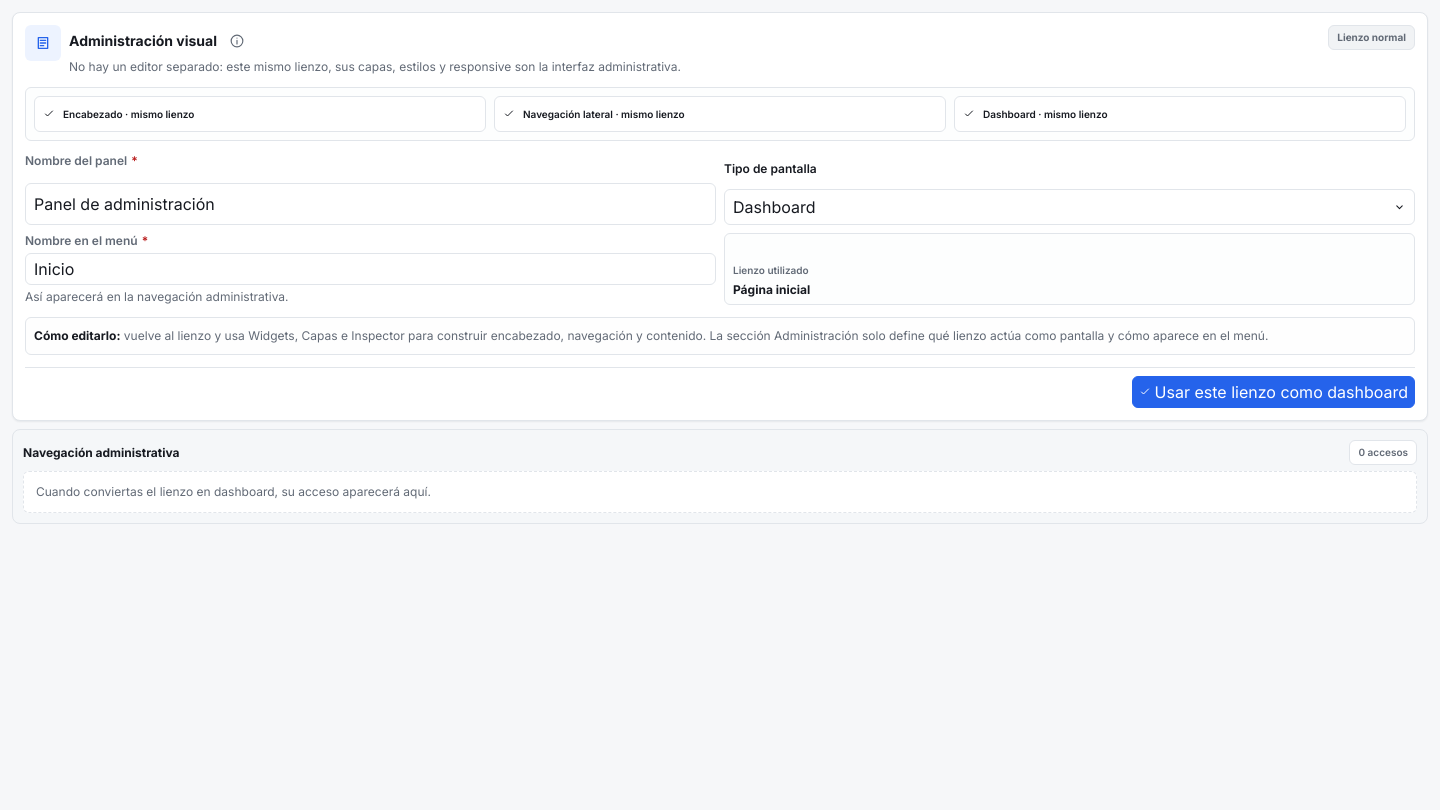
M12.1 BackendShellManager › convierte el lienzo actual en dashboard administrativo y persiste navegación sin pedir IDs
The image size is (1440, 810).
expect the text "No hay un editor separado: este mismo lienzo" is shown: met, box [69,59,681,74]
Replace the text in the field labelled "Nombre del panel" with "Operaciones" at (370, 204), box [25,183,716,225]
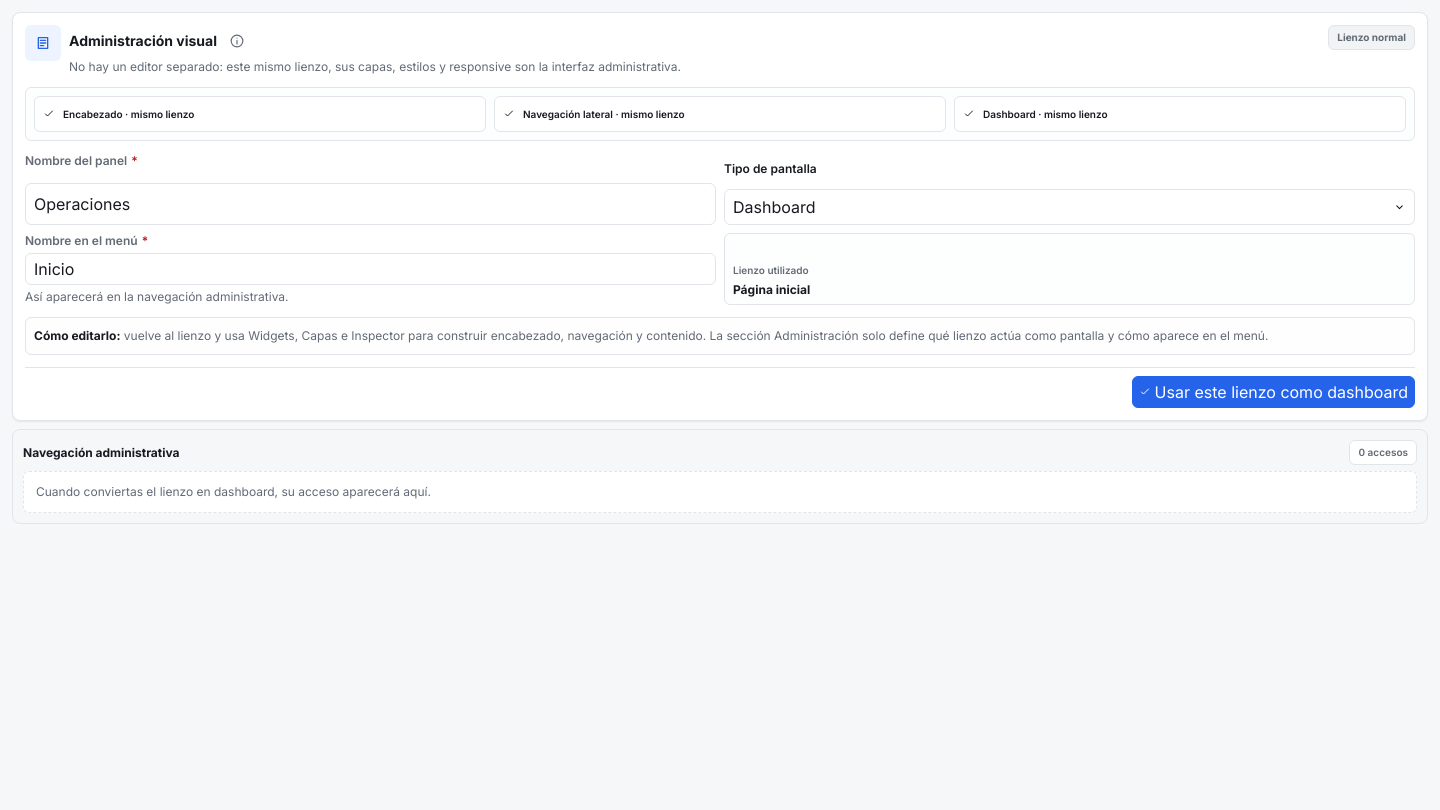
Replace the text in the field labelled "Nombre en el menú" with "Resumen" at (370, 269), box [25,253,716,285]
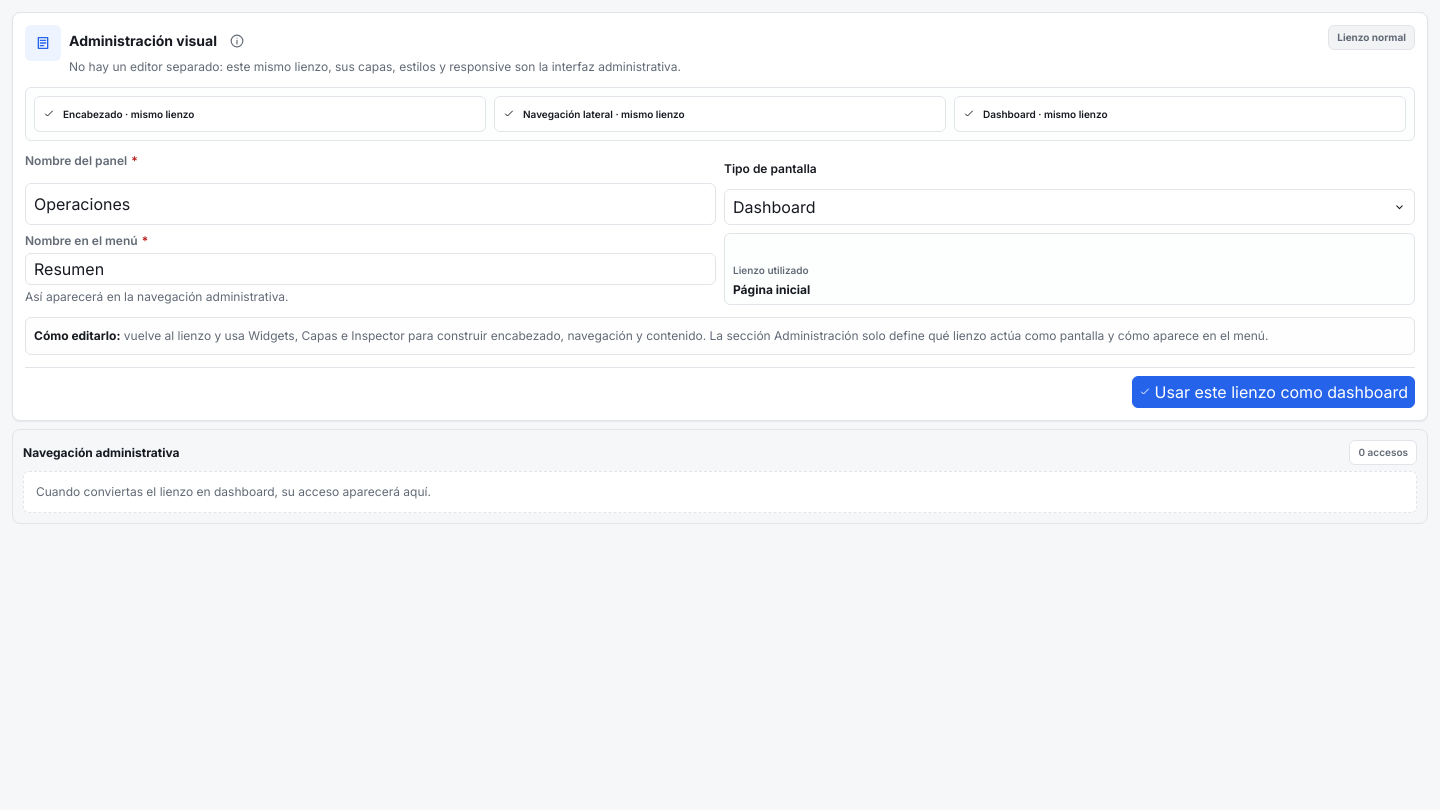
Click the button "Usar este lienzo como dashboard".
click(1273, 392)  # box [1132,376,1415,408]
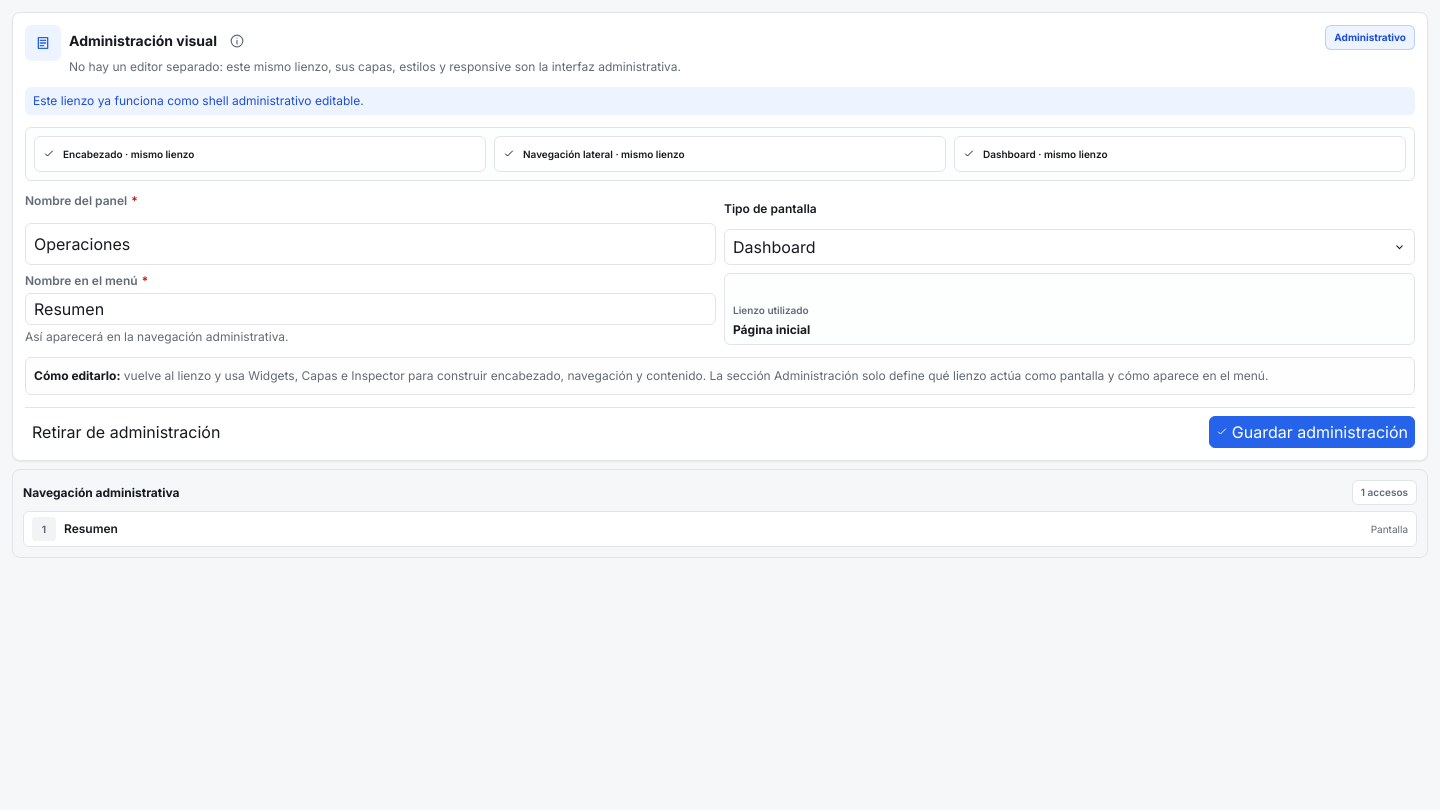
expect the text "Administrativo" is shown: met, box [1325,25,1415,50]
